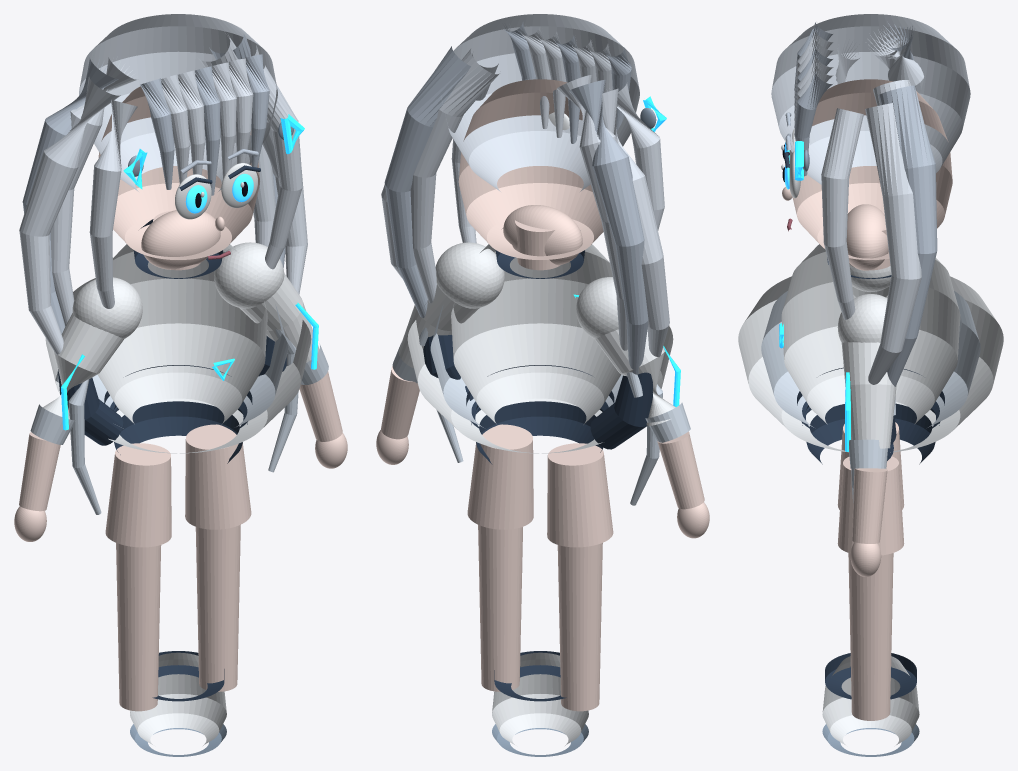
Rendered from ai_companion_character_v5.glb.
3 views of the same model, side by side, from view 1: azimuth 30°, elevation 25°; view 2: azimuth 150°, elevation 25°; view 3: azimuth 270°, elevation 25° (orthographic).
Parts seen in each view (by area): view 1: torso, hair_cap, backhair_-1_2, calf_-1, calf_1, left_thigh, right_thigh, head, boot_-1, frontlock_-1, backhair_-1_0, frontlock_1 (+32 smaller); view 2: torso, hair_cap, head, backhair_-1_1, calf_-1, calf_1, backhair_1_1, left_thigh, right_thigh, backhair_1_0, boot_-1, backhair_-1_2 (+30 smaller); view 3: torso, hair_cap, backhair_1_2, skirt_outer, calf_1, backhair_1_1, head, frontlock_1, skirt_inner, sleeve_1, boot_-1, right_thigh (+14 smaller).
Boxes of the visible parts, box(x1,y1,x2,y2) form: torso: box(97, 244, 267, 424); hair_cap: box(79, 14, 277, 191); backhair_-1_2: box(19, 77, 120, 355); calf_-1: box(116, 543, 161, 711); calf_1: box(195, 524, 240, 691); left_thigh: box(105, 443, 171, 547); right_thigh: box(185, 424, 251, 529); head: box(98, 86, 259, 259); boot_-1: box(130, 652, 226, 745); frontlock_-1: box(89, 99, 137, 308); backhair_-1_0: box(50, 57, 137, 326); frontlock_1: box(248, 65, 302, 269); torso: box(451, 244, 621, 424); hair_cap: box(441, 14, 639, 191); head: box(458, 79, 603, 259); backhair_-1_1: box(569, 79, 648, 374); calf_-1: box(557, 543, 602, 711); calf_1: box(478, 525, 522, 691); backhair_1_1: box(384, 46, 470, 318); left_thigh: box(547, 443, 613, 547); right_thigh: box(467, 424, 533, 529); backhair_1_0: box(410, 49, 499, 303); boot_-1: box(492, 652, 588, 745); backhair_-1_2: box(602, 88, 669, 357); torso: box(781, 244, 960, 424); hair_cap: box(771, 14, 970, 184); backhair_1_2: box(865, 103, 921, 384); skirt_outer: box(738, 276, 1003, 452); calf_1: box(848, 553, 893, 720); backhair_1_1: box(878, 85, 937, 386); head: box(791, 79, 952, 259); frontlock_1: box(821, 108, 863, 319); skirt_inner: box(761, 291, 980, 427); sleeve_1: box(841, 342, 896, 448); boot_-1: box(822, 656, 919, 744); right_thigh: box(837, 456, 904, 555).
Bounding box in the file's own units: 1.49 × 3.05 × 1.04.
